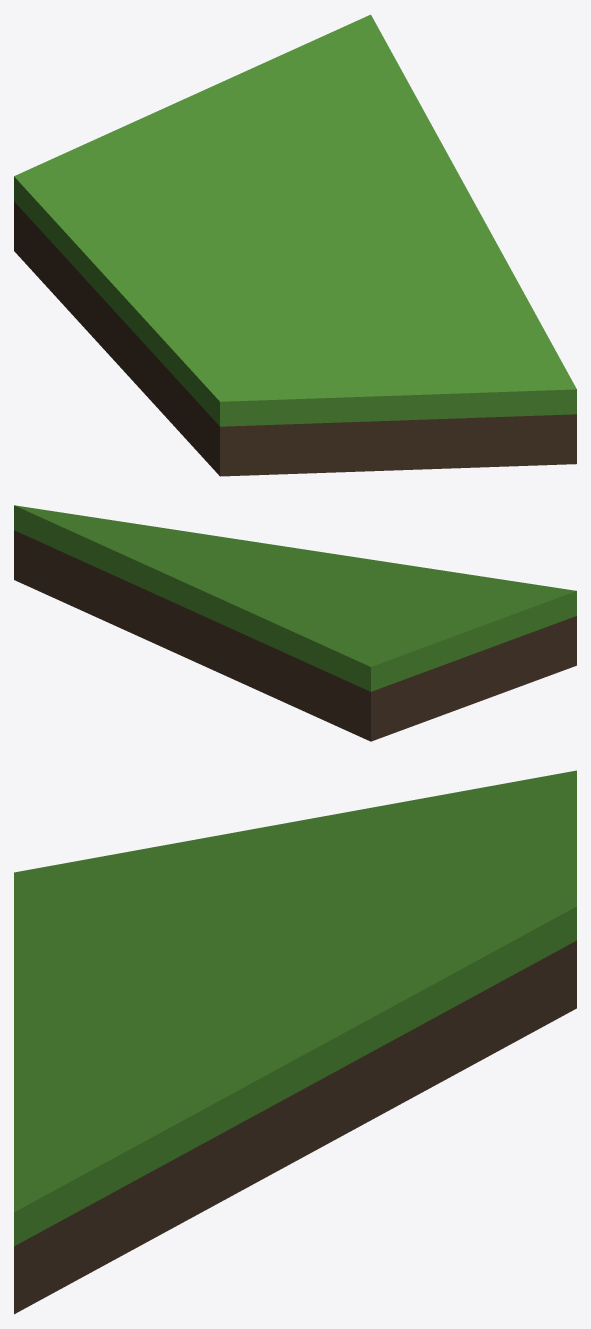
File: tiles_tile-hill-askew-valley-corner.fbx
3 views of the same model, one above another, from view 1: azimuth 30°, elevation 25°; view 2: azimuth 150°, elevation 25°; view 3: azimuth 270°, elevation 25° (orthographic). The views are drawn at different scales.
Parts seen in each view (by area): view 1: tiles_tile_hill_askew_valley_corner; view 2: tiles_tile_hill_askew_valley_corner; view 3: tiles_tile_hill_askew_valley_corner.
Part boxes in pixels (x1,y1,x2,y2): tiles_tile_hill_askew_valley_corner: [14, 14, 576, 476]; tiles_tile_hill_askew_valley_corner: [14, 505, 576, 741]; tiles_tile_hill_askew_valley_corner: [14, 770, 576, 1314].
Size of the model in its own units: 200 by 160 by 200.
